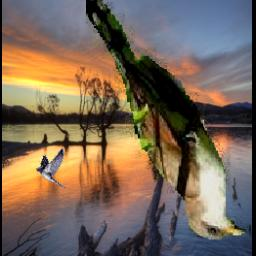Cuckoo: (85, 0, 250, 241)
Swallow: (35, 149, 67, 189)
